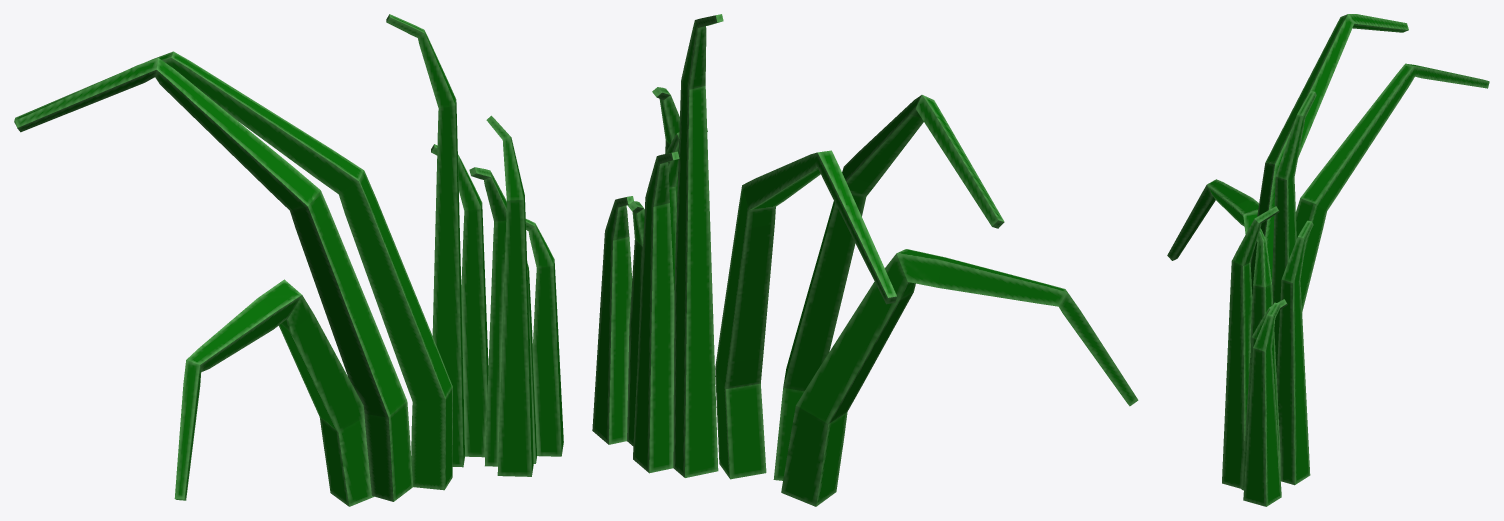
Rendered from Grass2.fbx.
The picture shows the model from 3 angles, left to right: view 1: azimuth 30°, elevation 25°; view 2: azimuth 150°, elevation 25°; view 3: azimuth 270°, elevation 25°; orthographic projection. The views are drawn at different scales.
Parts seen in each view (by area): view 1: Cube.013; view 2: Cube.013; view 3: Cube.013.
Boxes of the visible parts, <box> form: Cube.013: <box>14,14,563,506</box>; Cube.013: <box>592,14,1138,506</box>; Cube.013: <box>1167,14,1489,506</box>.
Size of the model in its own units: 9.37 by 8.65 by 6.96.
